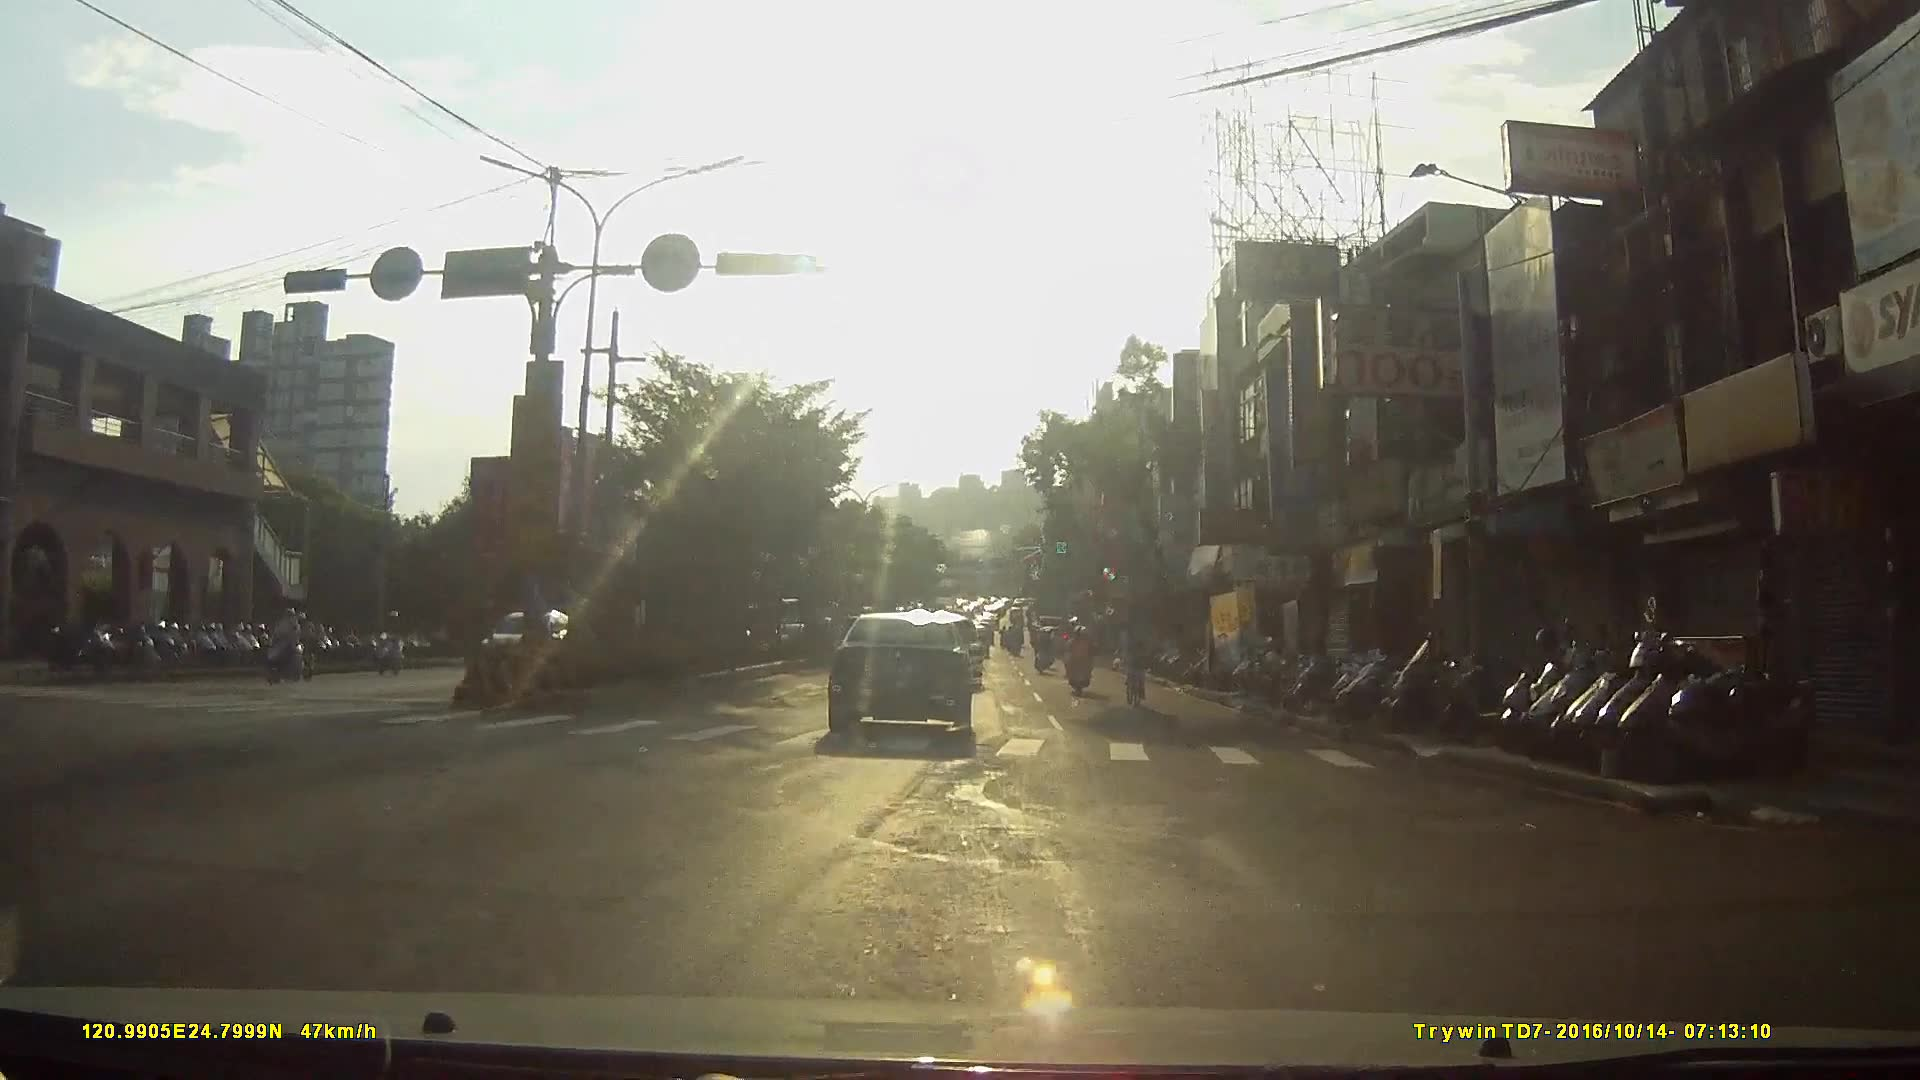rider: (265, 610, 312, 688), (1118, 622, 1153, 716), (379, 606, 410, 675), (1068, 626, 1095, 698), (1032, 624, 1057, 679)
vehicle: (832, 609, 990, 752)
